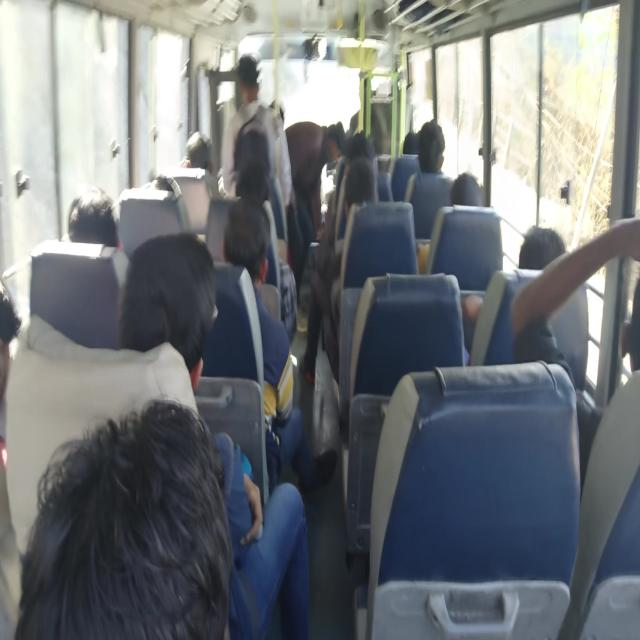person: (46, 436, 212, 640), (134, 253, 227, 373), (592, 250, 640, 408), (154, 169, 206, 235), (70, 191, 122, 248), (0, 292, 21, 409), (227, 210, 266, 272), (305, 120, 342, 179), (234, 176, 270, 235), (240, 60, 269, 125), (183, 130, 218, 182), (526, 219, 558, 271), (343, 170, 371, 212), (454, 168, 478, 215), (272, 96, 296, 136), (421, 123, 437, 172), (342, 144, 366, 175), (400, 136, 420, 164), (237, 147, 253, 177)
